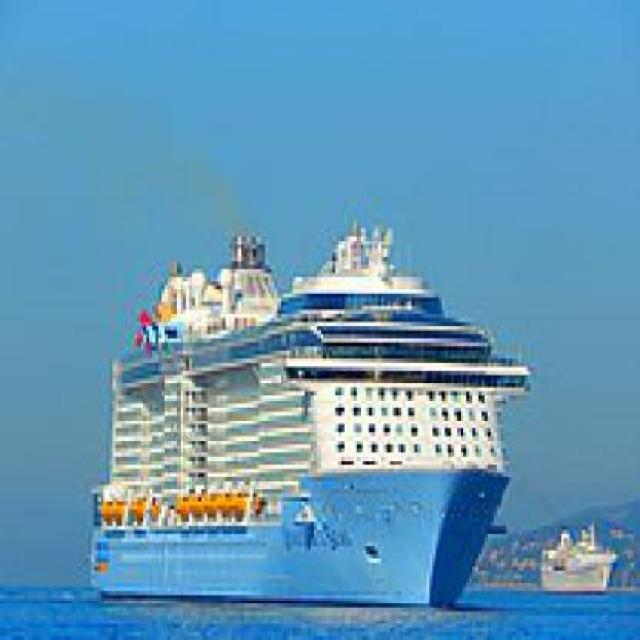cruise: (80, 204, 528, 609)
